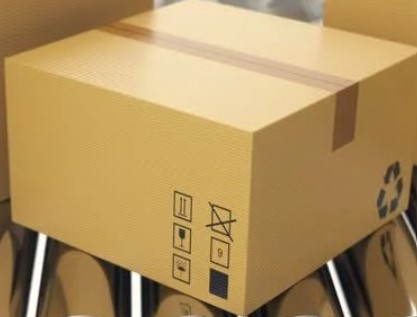stock: (5, 3, 417, 314)
